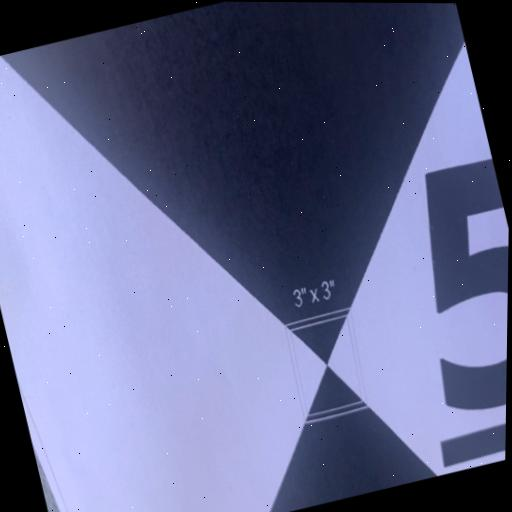target5: (0, 2, 509, 512)
